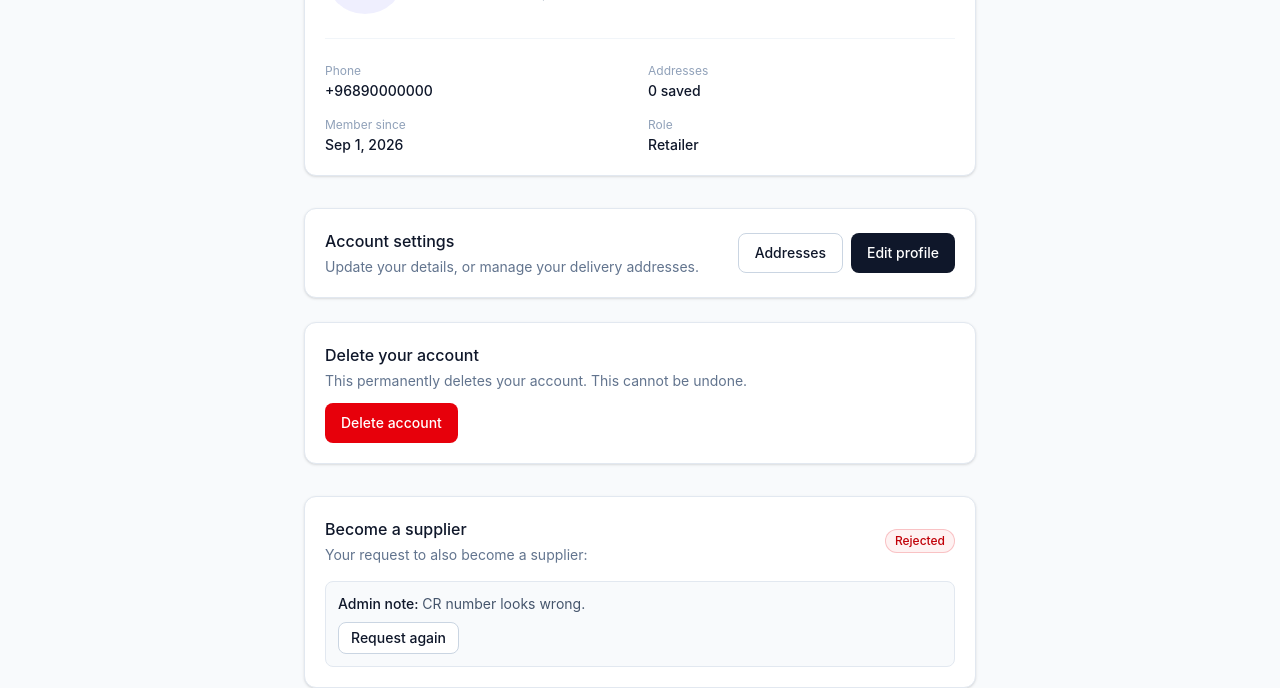
Scenario: ProfilePage (retailer) — filing a supplier request › pre-fills a repeat request from the rejected one, so only what the admin flagged needs changing
(page scrolled)
Click the button "Request again".
click(398, 638)  # box [338,622,459,654]
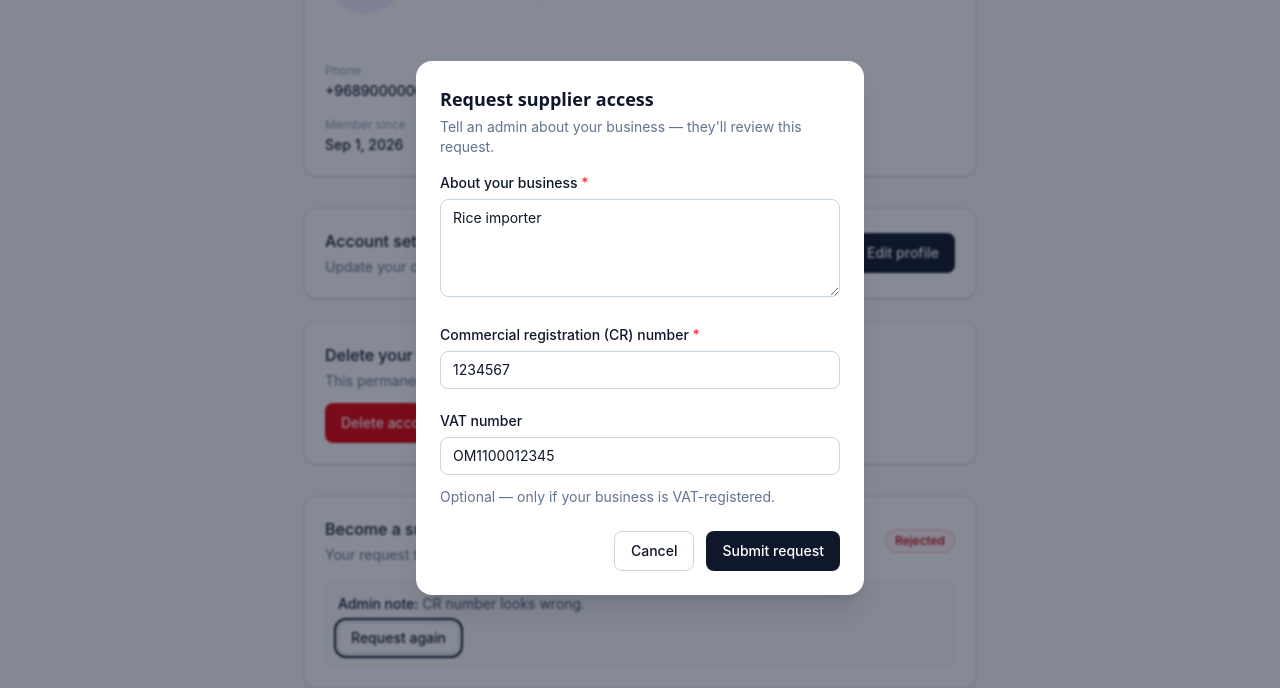
Expected: the text box labelled "About your business *" holds "Rice importer", [440,199,840,297]
Expected: the field labelled "Commercial registration (CR) number *" holds "1234567", [440,351,840,389]
Expected: the field labelled "VAT number" holds "OM1100012345", [440,437,840,475]
